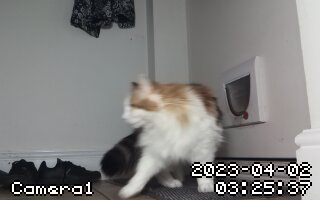clara: (119, 74, 227, 192)
